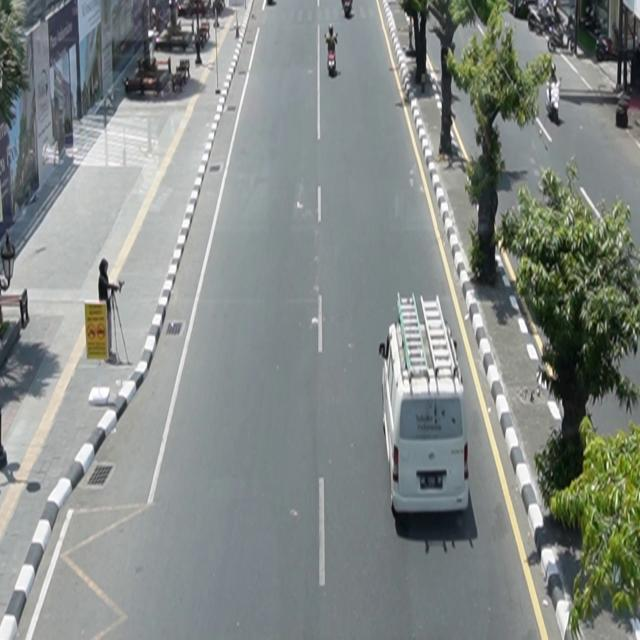bus: (379, 292, 471, 519)
